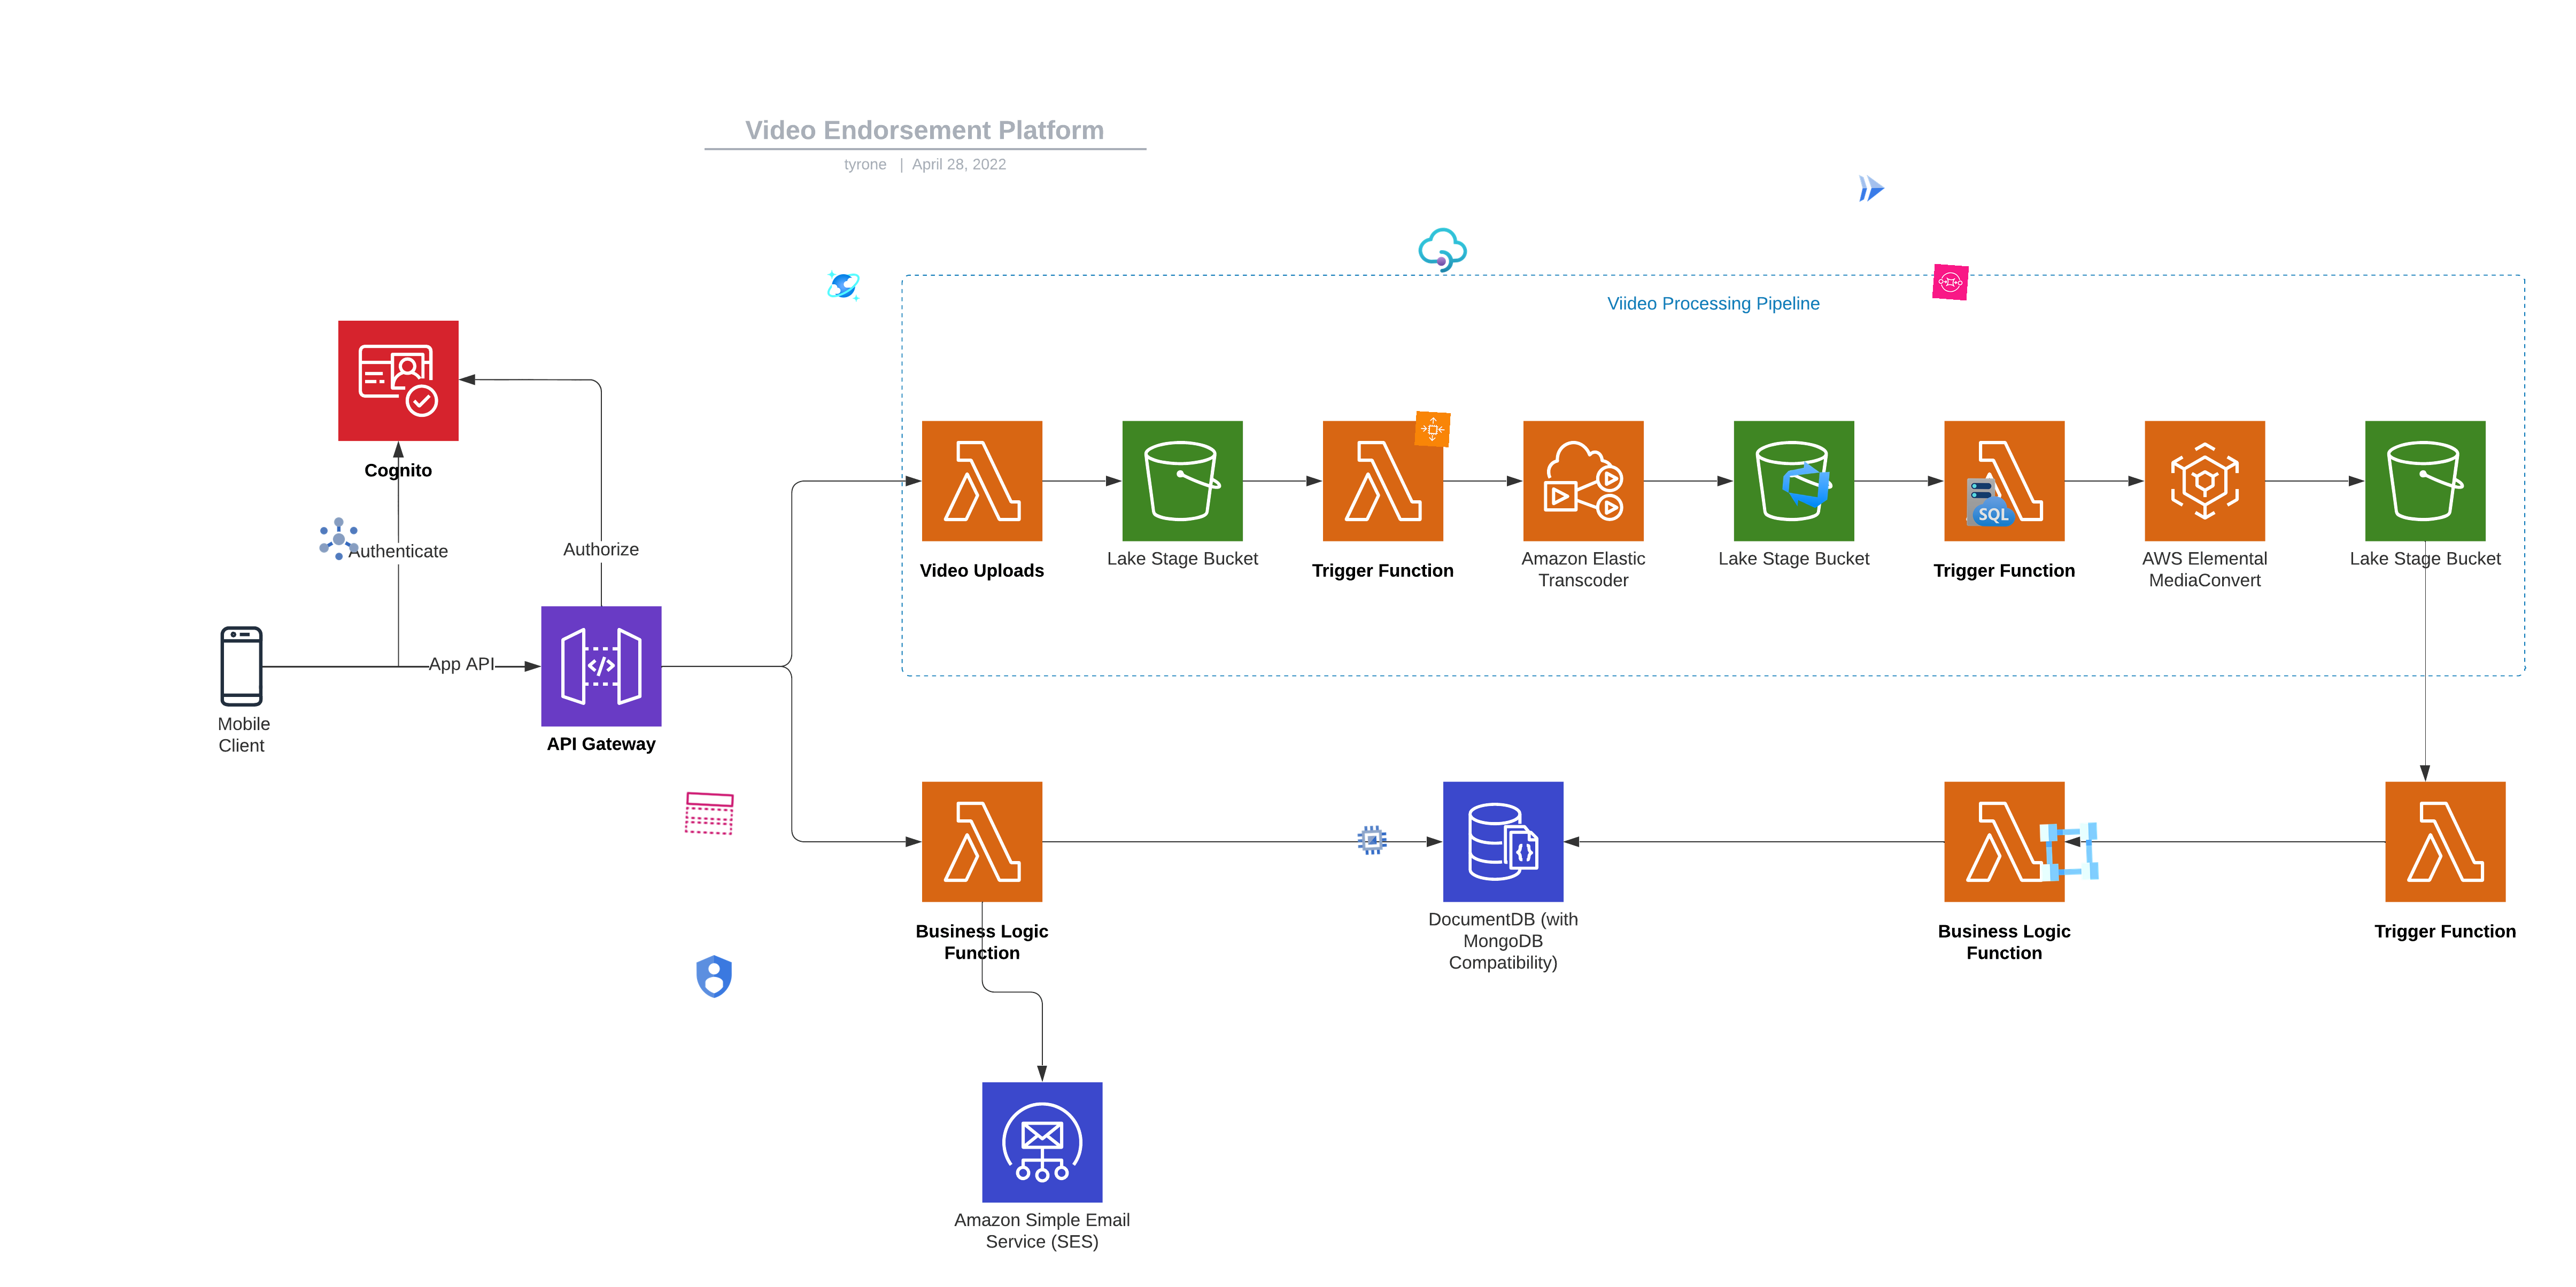aws_amazon_ec2_auto_scaling: (1415, 410, 1451, 448)
aws_amazon_simple_queue_service: (1932, 264, 1970, 300)
aws_simple_notification_service_topic: (682, 786, 736, 840)
azure_api_management_services: (1416, 223, 1470, 277)
azure_cosmos_db: (826, 268, 861, 304)
azure_devops: (1778, 456, 1833, 512)
azure_sql_managed_instance: (1965, 476, 2017, 529)
gcp_cloud_run: (1853, 171, 1889, 205)
gcp_compute_engine: (1354, 822, 1390, 859)
gcp_identity_and_access_management: (688, 950, 741, 1003)
gcp_pubsub: (312, 512, 365, 565)
gcp_virtual_private_cloud: (2034, 816, 2105, 888)
